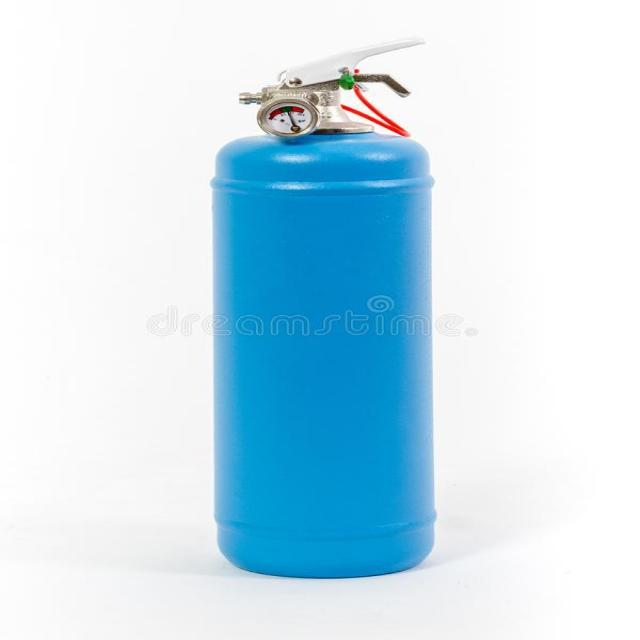fire_extinguisher: (200, 35, 441, 584)
